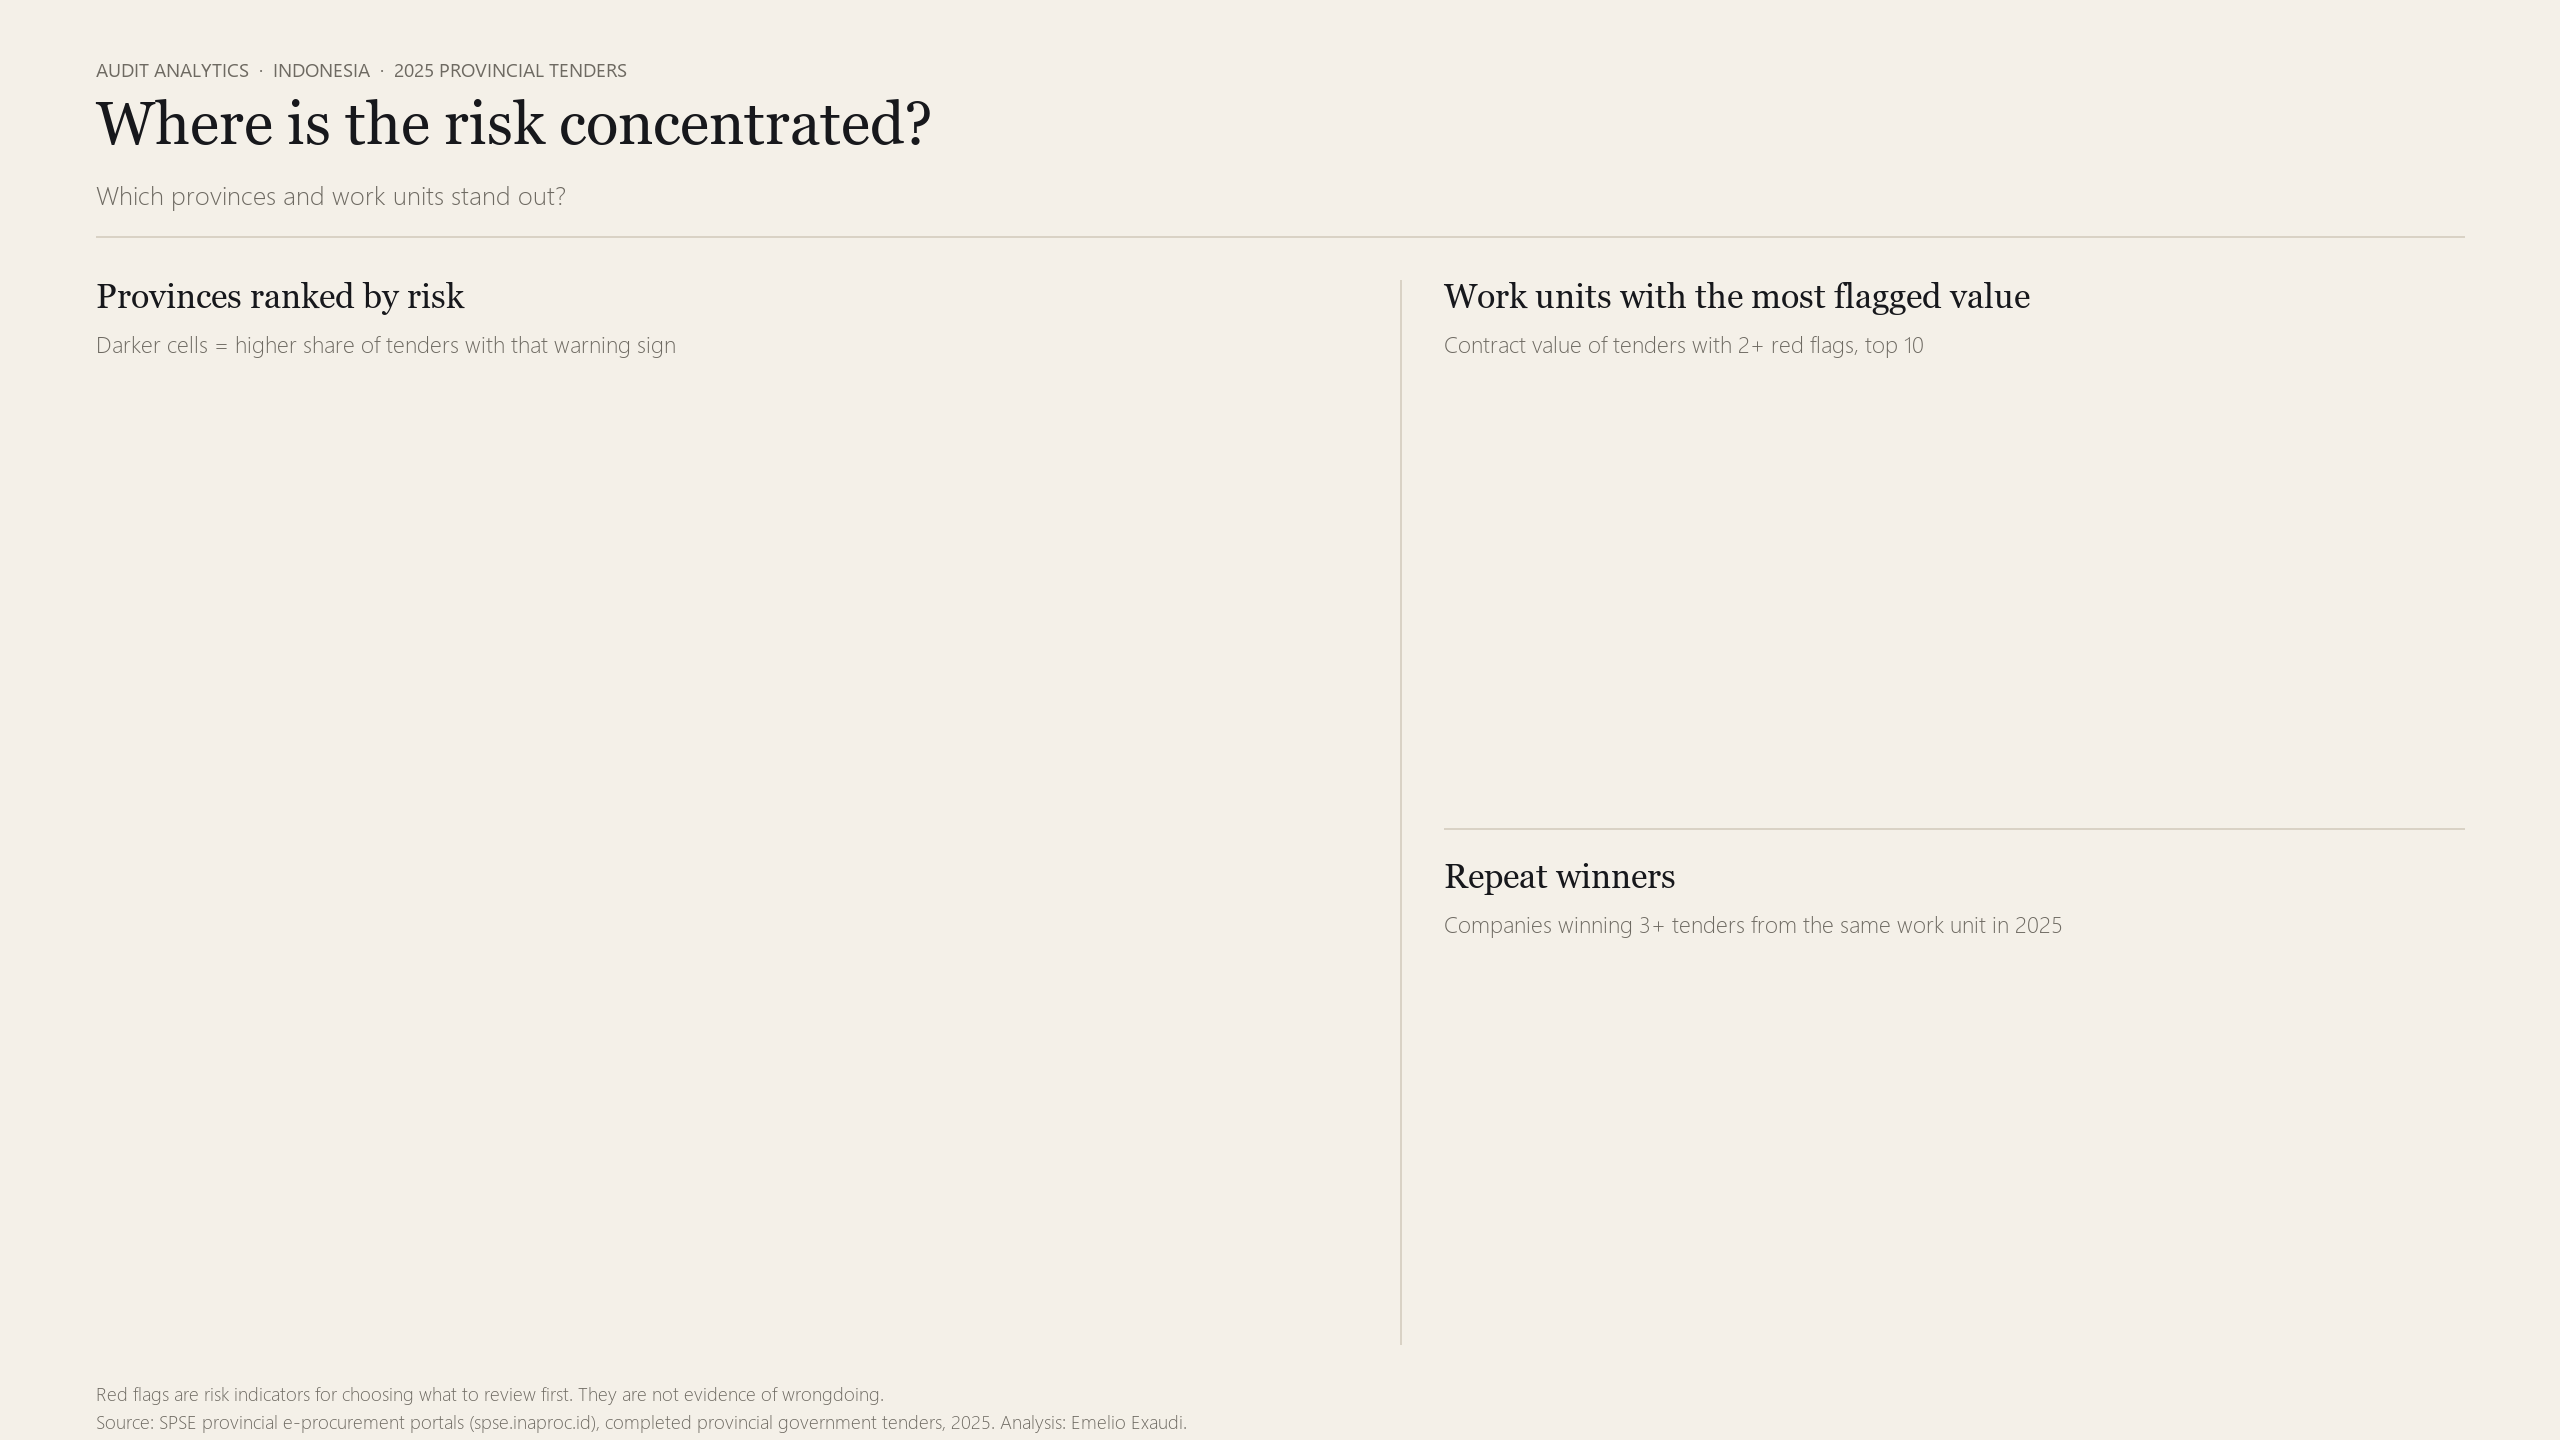

The dashboard page shown, as its layout file describes it:
{"tool":"powerbi","page":{"name":"Where","canvas":[1280,720],"ordinal":2},"visuals":[{"type":"tableEx","fields":{"Values":["tenders.province","tenders.Tenders Analysed","tenders.Single Bid %","tenders.Near HPS %","tenders.Multi Flag %"]},"box":[36,196,640,484],"z":0},{"type":"tableEx","fields":{"Values":["tenders.work_unit","tenders.province","flags.Top10 Flagged Value"]},"box":[712,196,520,206],"z":1},{"type":"tableEx","fields":{"Values":["repeat_winners.winner_name","repeat_winners.work_unit","repeat_winners.province","Sum(repeat_winners.wins)","flags.Repeat Win Value"]},"box":[712,482,520,196],"z":2},{"type":"pageNavigator","box":[768,26,480,32],"z":3}]}

Visuals, with their boxes in screenshot pixels (x1, y1, x2, y2), scaled from the page's 1280x720 canvas onto the 2560x1440 screenshot:
tableEx - tenders.province x tenders.Tenders Analysed: 72:392:1352:1360
tableEx - tenders.work_unit x tenders.province: 1424:392:2464:804
tableEx - repeat_winners.winner_name x repeat_winners.work_unit: 1424:964:2464:1356
pageNavigator: 1536:52:2496:116
